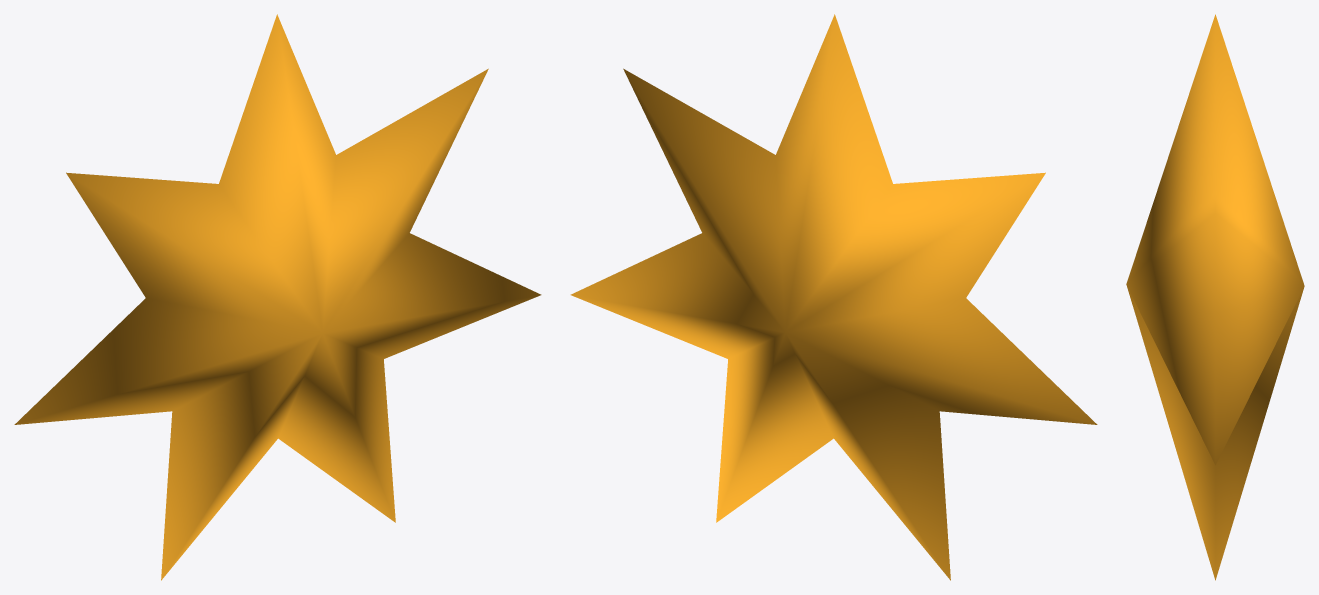
Rendered from 01-STAR-07.fbx.
3 views of the same model, side by side, from view 1: azimuth 30°, elevation 25°; view 2: azimuth 150°, elevation 25°; view 3: azimuth 270°, elevation 25° (orthographic). The views are drawn at different scales.
Parts seen in each view (by area): view 1: 01-STAR-07; view 2: 01-STAR-07; view 3: 01-STAR-07.
Boxes of the visible parts, left/top/right/bottom form: 01-STAR-07: left=14, top=14, right=541, bottom=580; 01-STAR-07: left=570, top=14, right=1097, bottom=580; 01-STAR-07: left=1126, top=14, right=1304, bottom=580.
Bounding box in the file's own units: 390 × 380 × 120.
